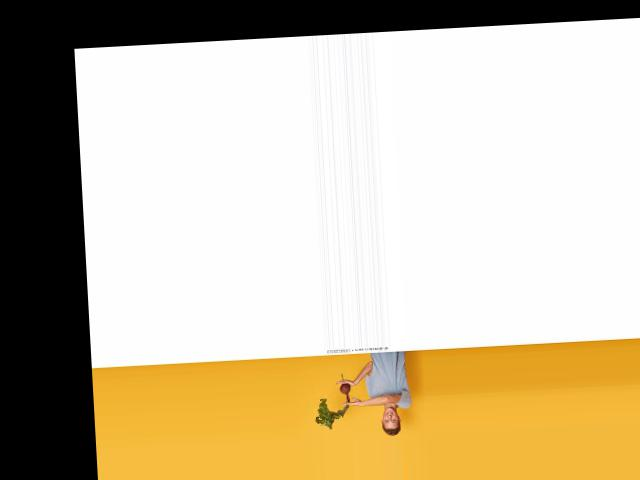beet: (312, 373, 352, 429)
